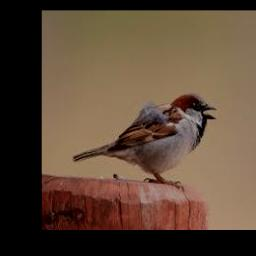Sparrow: (73, 92, 217, 190)
